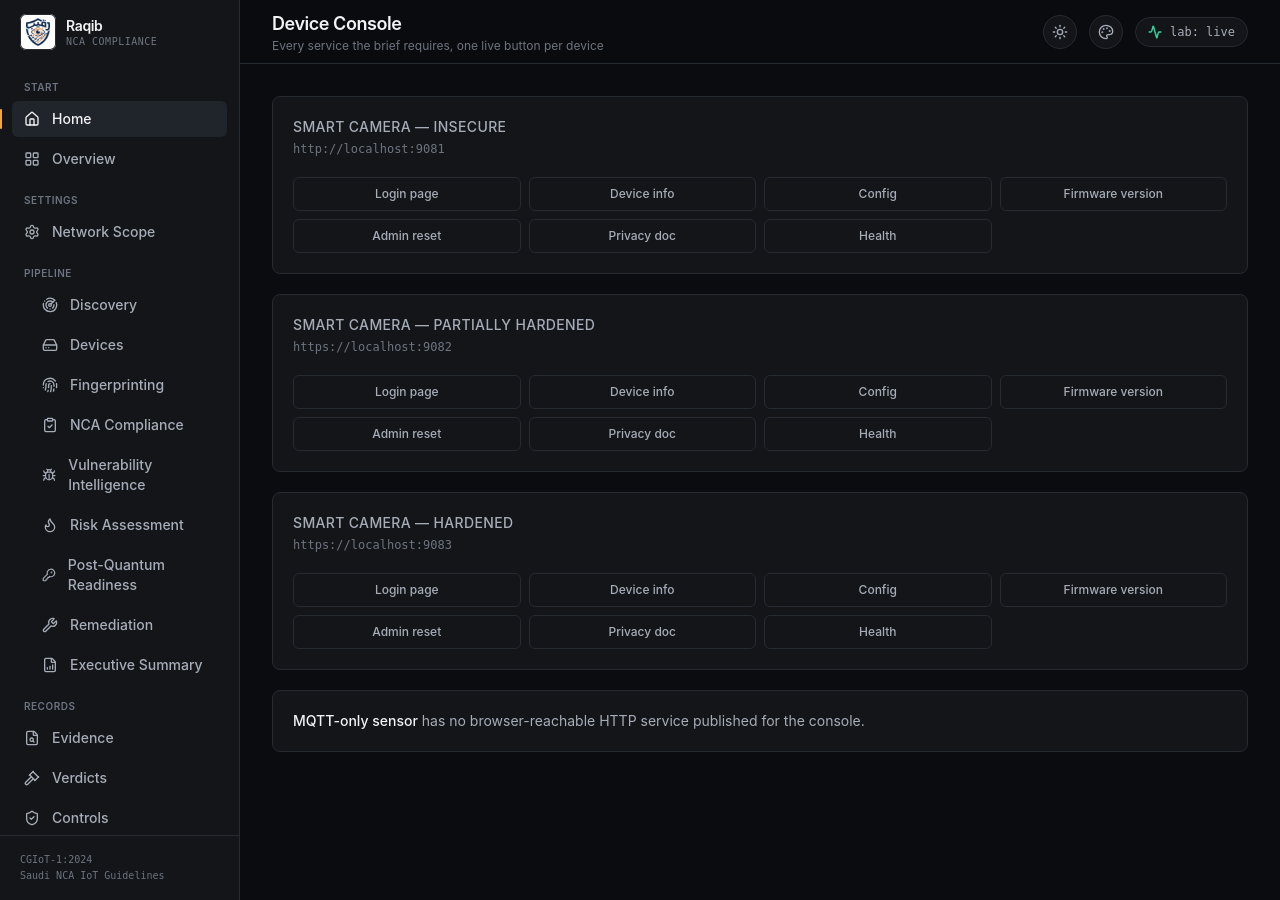
Test: DeviceConsolePage › opens the real login page in a new tab in addition to showing the fetch result
Expected: the text "http://localhost:9081" is shown, 293,142 -> 445,156
Click the button "Login page" below "http://localhost:9081" at point(407, 194), box 293,177 -> 520,211
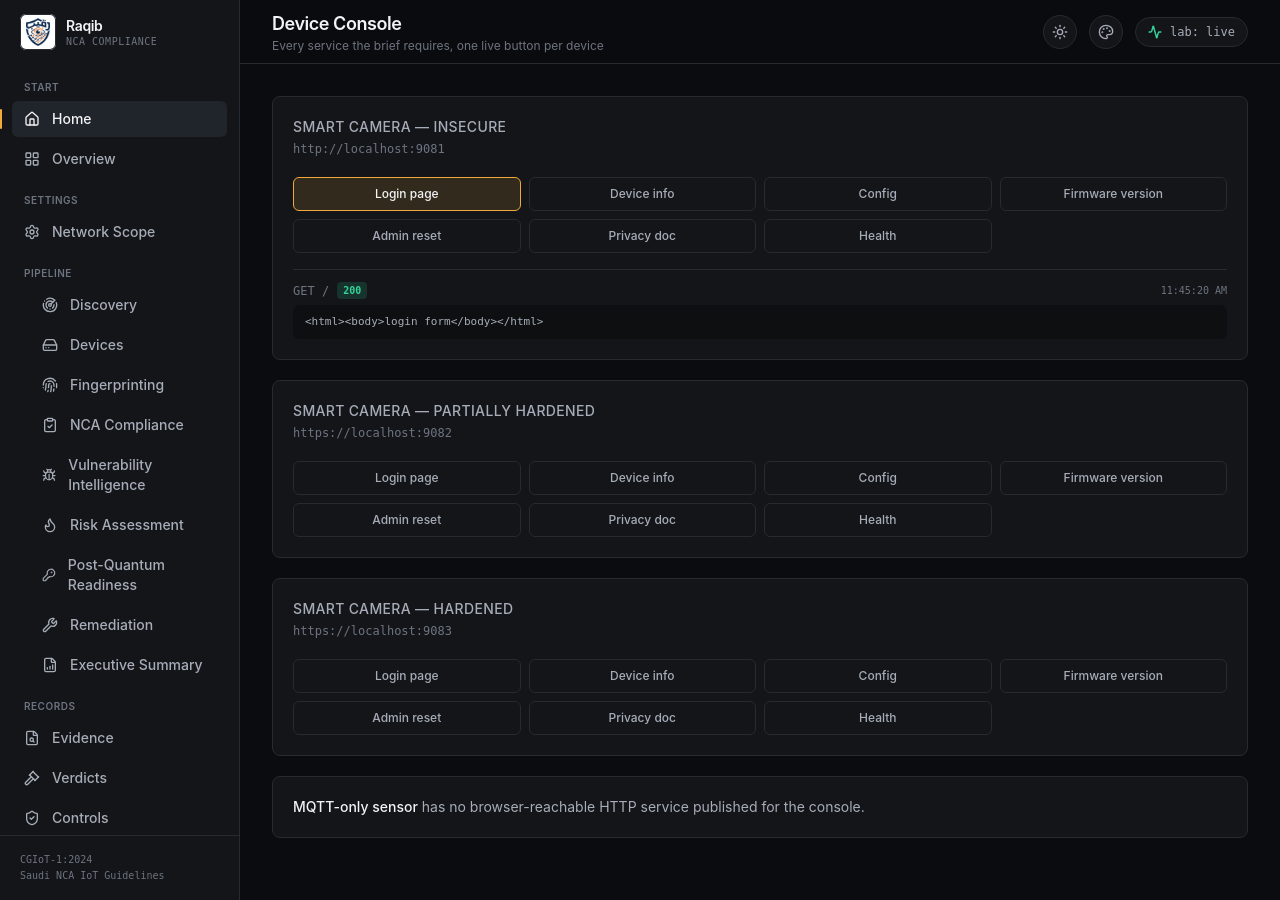
Result: the text "GET /" is shown at 293,283 -> 329,299
